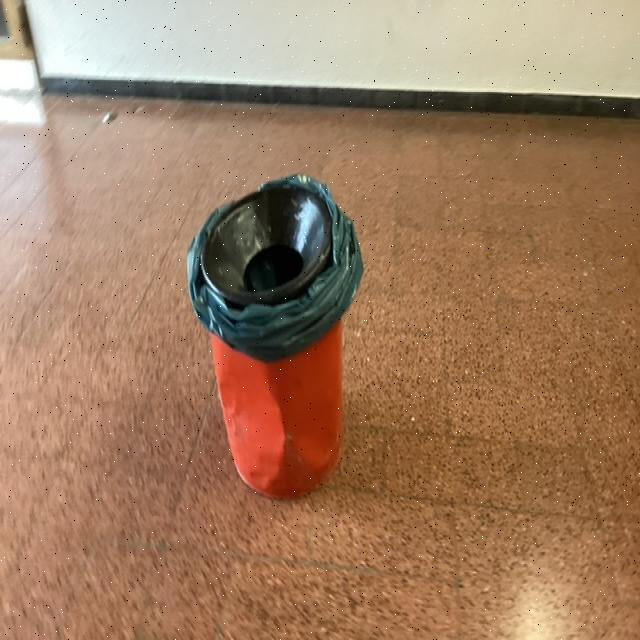garbage container: (173, 145, 383, 513)
